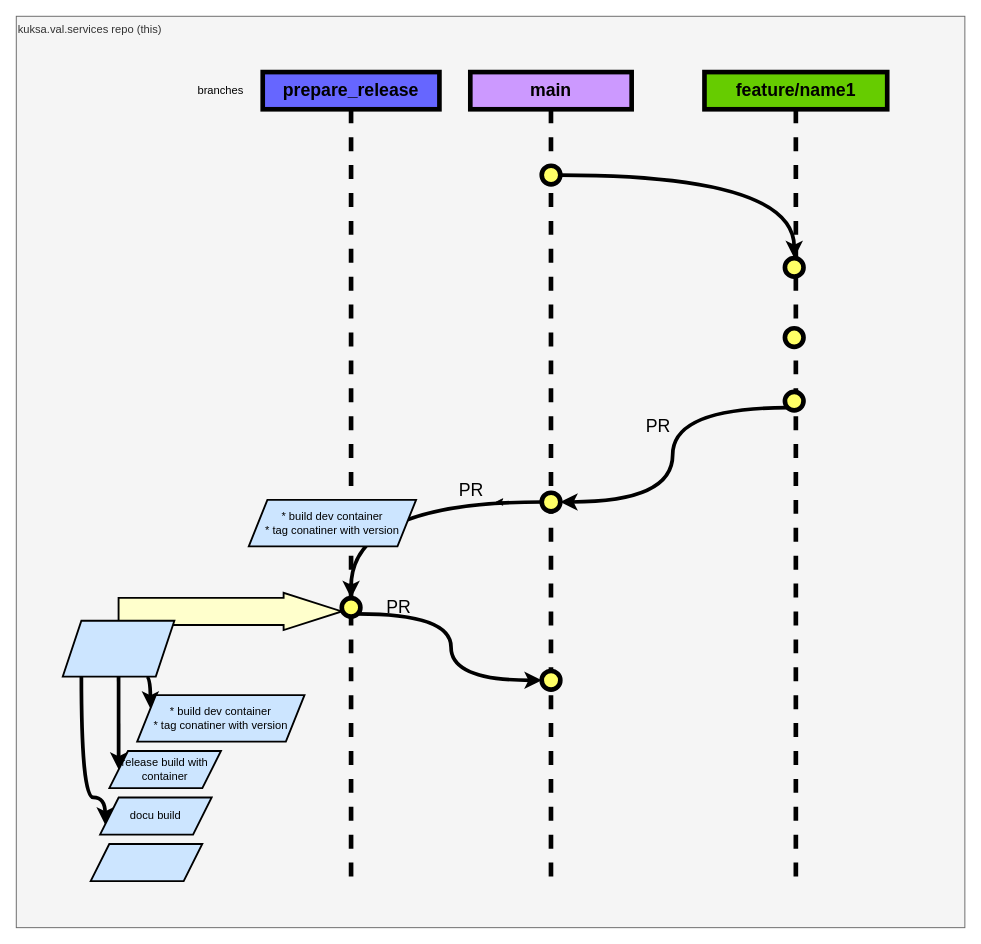
Some shapes in this 981 by 944 pixel diagram are drawn without their labels. The centre of each missing label's shape, as x and y in pixels:
attach build items: pixel 146 862
on: tag v* val-release: pixel 118 648
v0.0.1: pixel 229 611
